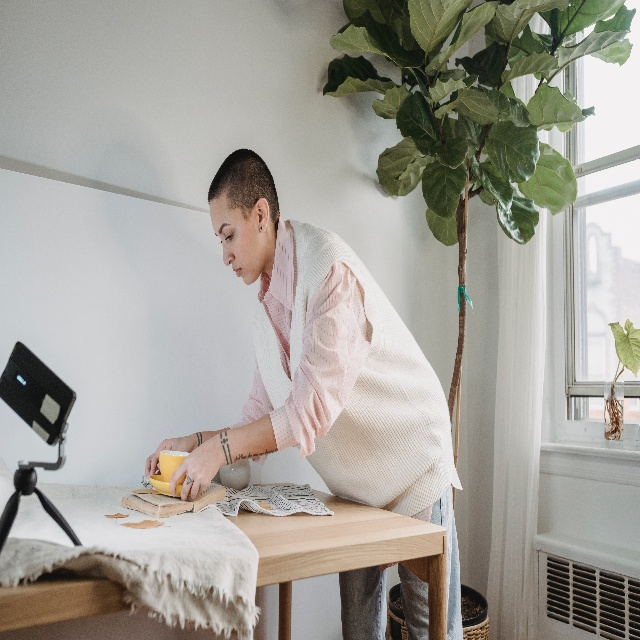Sin_guantes: (169, 438, 222, 502), (144, 434, 196, 484)
